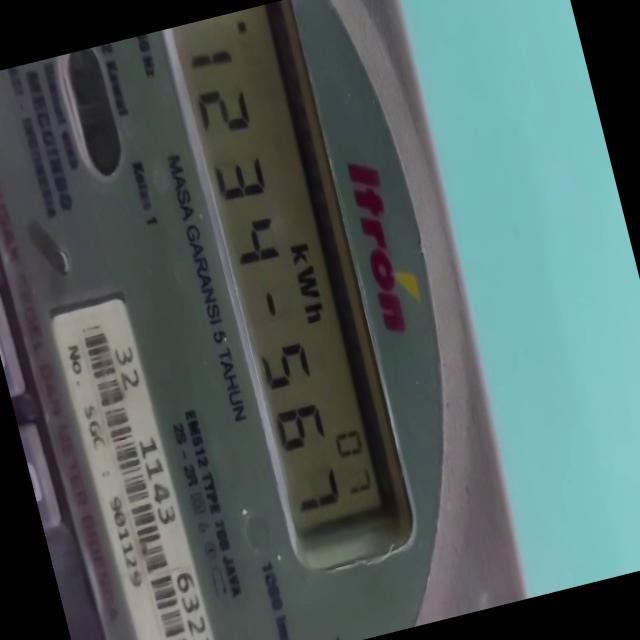LCD: (164, 0, 419, 555)
